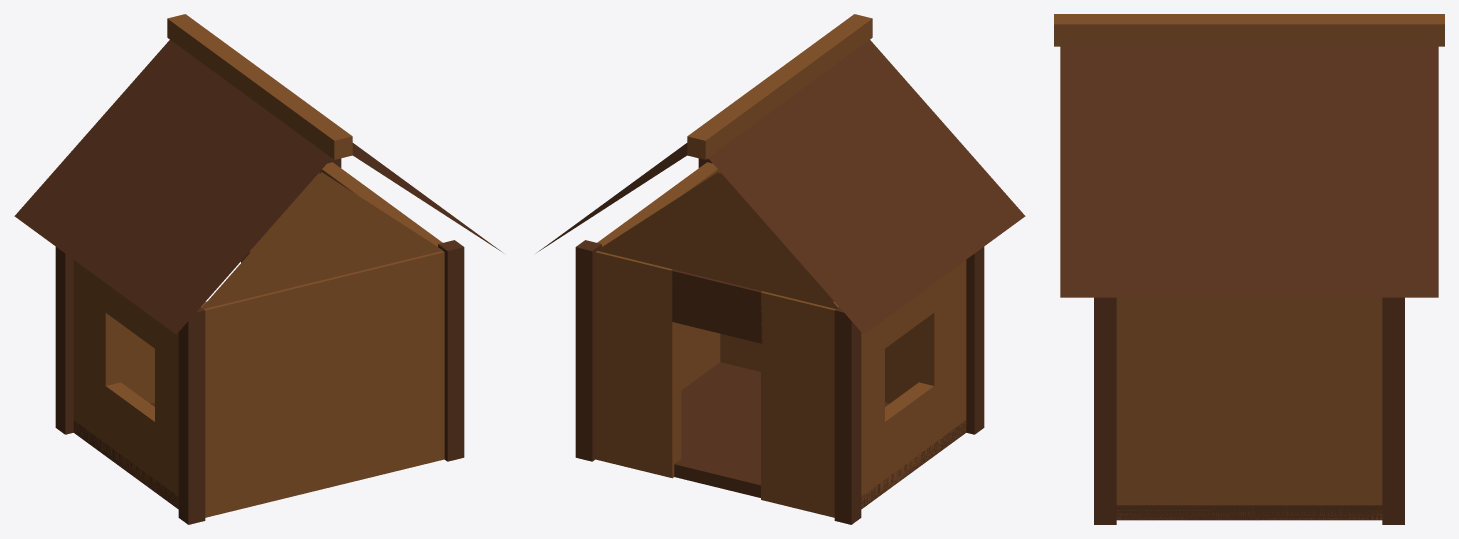
The model's file is hut.obj.
3 renders of one model, left to right at view 1: azimuth 30°, elevation 25°; view 2: azimuth 150°, elevation 25°; view 3: azimuth 270°, elevation 25°, orthographic. The views are drawn at different scales.
Bounding box in the file's own units: 2.16 × 2.29 × 1.9.
Materials: 1 (1 with a texture image).
